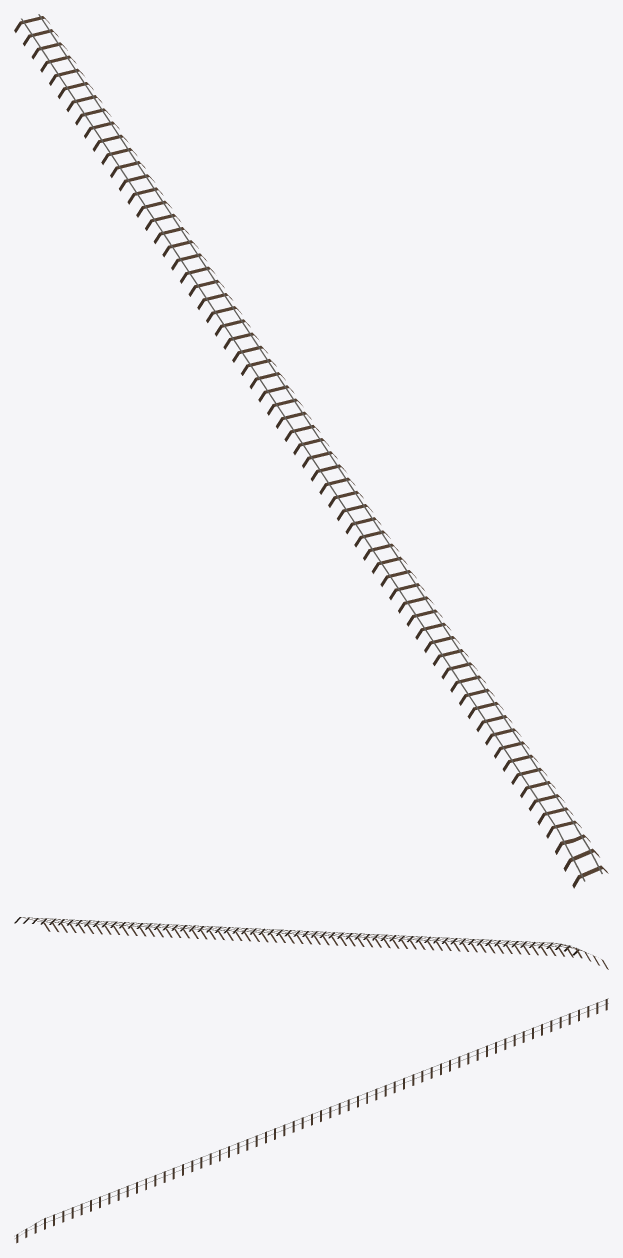
The model's file is dam_incline_spine_detail1.glb.
3 renders of one model, top to bottom at view 1: azimuth 30°, elevation 25°; view 2: azimuth 150°, elevation 25°; view 3: azimuth 270°, elevation 25°, orthographic. The views are drawn at different scales.
Parts seen in each view (by area): view 1: dam_incline_spine_detail1; view 2: dam_incline_spine_detail1; view 3: dam_incline_spine_detail1.
Part boxes in pixels (<box>): dam_incline_spine_detail1: <box>14,14,608,888</box>; dam_incline_spine_detail1: <box>14,917,608,969</box>; dam_incline_spine_detail1: <box>14,998,608,1243</box>.
Size of the model in its own units: 3 by 37.59 by 84.
